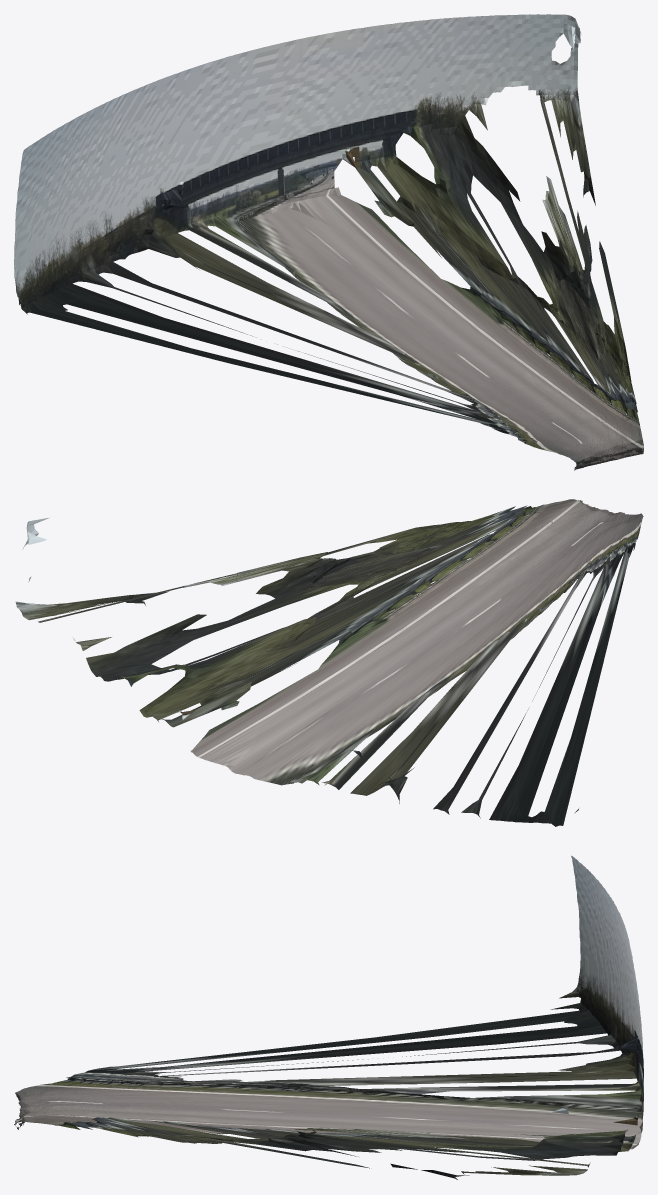
The picture shows the model from 3 angles, top to bottom: view 1: azimuth 30°, elevation 25°; view 2: azimuth 150°, elevation 25°; view 3: azimuth 270°, elevation 25°; orthographic projection. The views are drawn at different scales.
Parts seen in each view (by area): view 1: defaultobject; view 2: defaultobject; view 3: defaultobject.
Part boxes in pixels (x1,y1,x2,y2): defaultobject: (14, 14, 643, 470); defaultobject: (15, 499, 643, 826); defaultobject: (14, 855, 643, 1179).
Size of the model in its own units: 41.09 by 12.55 by 44.43.
Materials: 1 (1 with a texture image).
